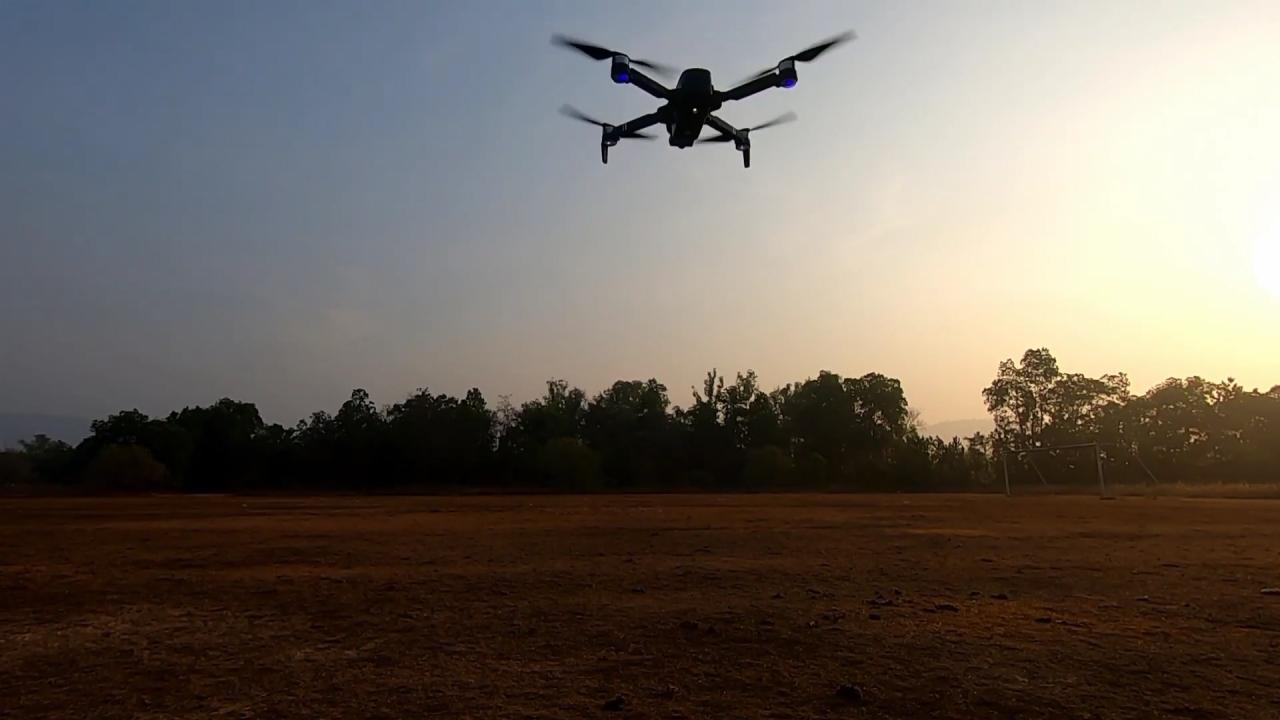Drone: (541, 18, 866, 180)
